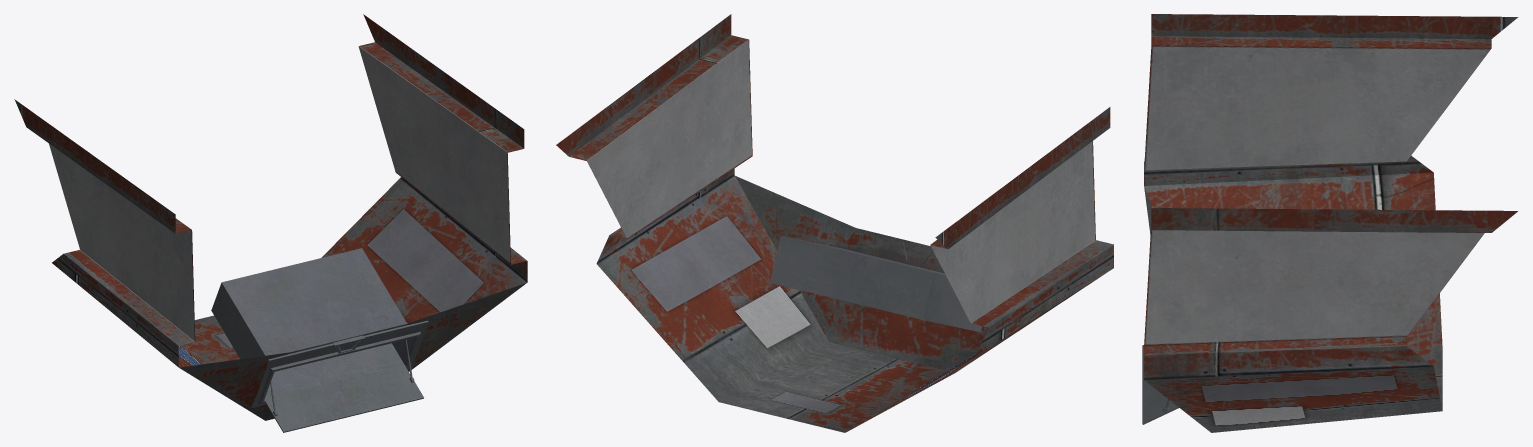
Rendered from HCP16.fbx.
3 views of the same model, side by side, from view 1: azimuth 30°, elevation 25°; view 2: azimuth 150°, elevation 25°; view 3: azimuth 270°, elevation 25° (orthographic). The views are drawn at different scales.
Visible parts, largest first — view 1: sixteenD; view 2: sixteenD; view 3: sixteenD.
Part boxes in pixels (bbox=[...]): sixteenD: bbox=[14, 14, 527, 432]; sixteenD: bbox=[556, 14, 1113, 432]; sixteenD: bbox=[1142, 14, 1518, 432].
Bounding box in the file's own units: 5948 × 4141 × 4878.
Materials: 1 (1 with a texture image).
